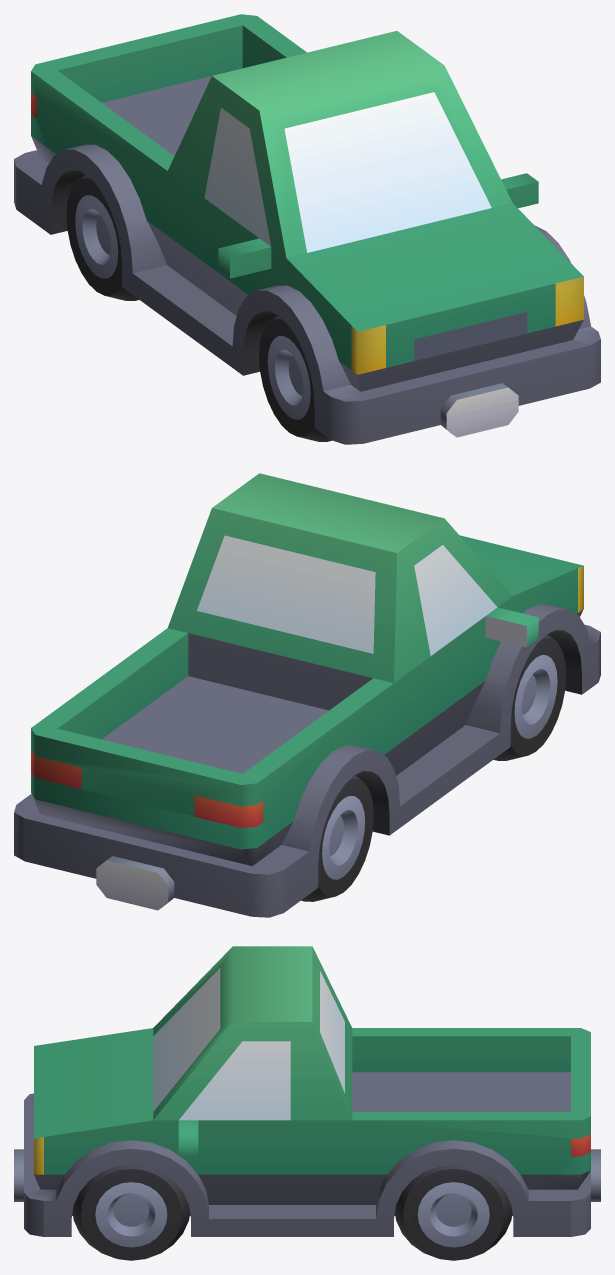
The model's file is k-car-truck.glb.
The picture shows the model from 3 angles, top to bottom: view 1: azimuth 30°, elevation 25°; view 2: azimuth 150°, elevation 25°; view 3: azimuth 270°, elevation 25°; orthographic projection. The views are drawn at different scales.
Parts seen in each view (by area): view 1: body, wheel-front-right, wheel-back-right; view 2: body, wheel-front-right, wheel-back-right; view 3: body, wheel-front-left, wheel-back-left.
Part boxes in pixels (x1,y1,x2,y2): body: (14, 14, 600, 444); wheel-front-right: (259, 315, 331, 441); wheel-back-right: (66, 174, 138, 300); body: (14, 473, 600, 917); wheel-front-right: (493, 634, 566, 760); wheel-back-right: (301, 775, 373, 901); body: (14, 946, 600, 1236); wheel-front-left: (72, 1165, 189, 1260); wheel-back-left: (395, 1165, 512, 1260).
Size of the model in its own units: 1.5 by 1.3 by 2.95.
Materials: 1 (1 with a texture image).
